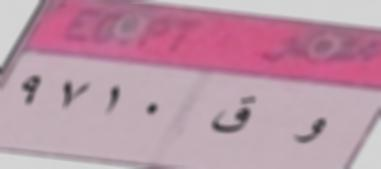0: (138, 93, 162, 123)
1: (99, 80, 126, 126)
7: (58, 76, 90, 115)
9: (15, 72, 46, 109)
qaaf: (214, 84, 259, 142)
waw: (290, 109, 326, 154)
